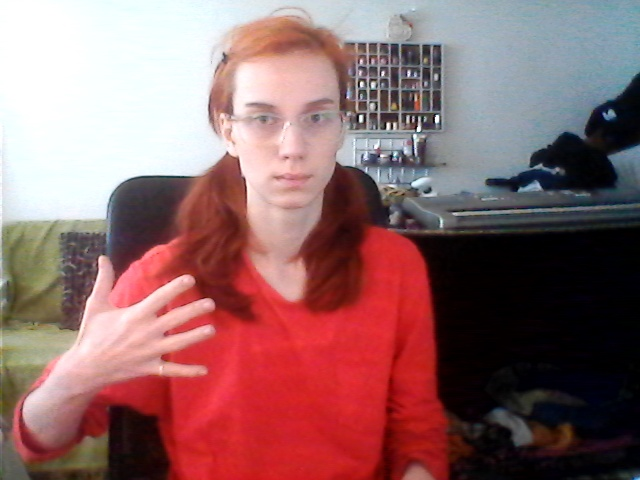pat: (71, 253, 225, 390)
